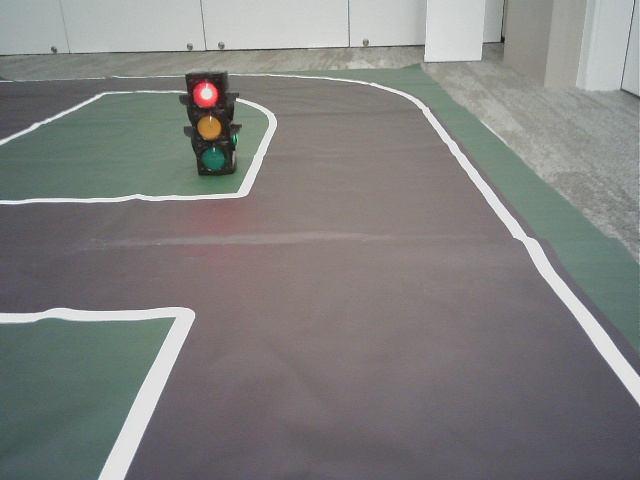red: (190, 76, 231, 169)
